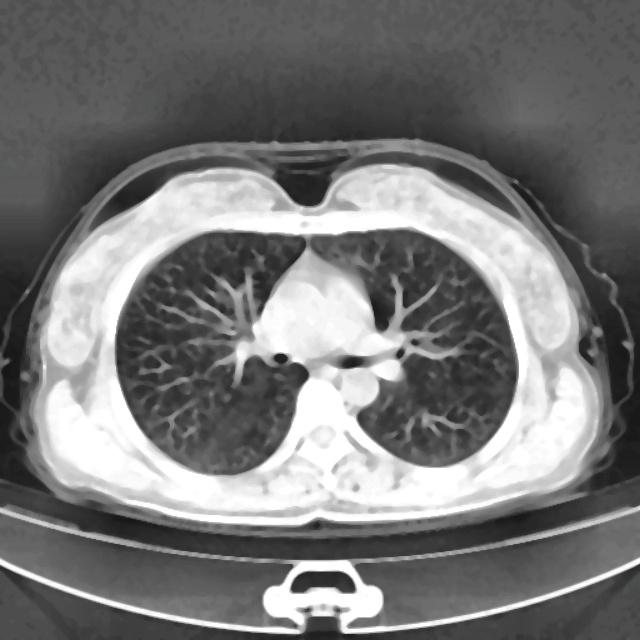covid: (5, 137, 633, 538)
